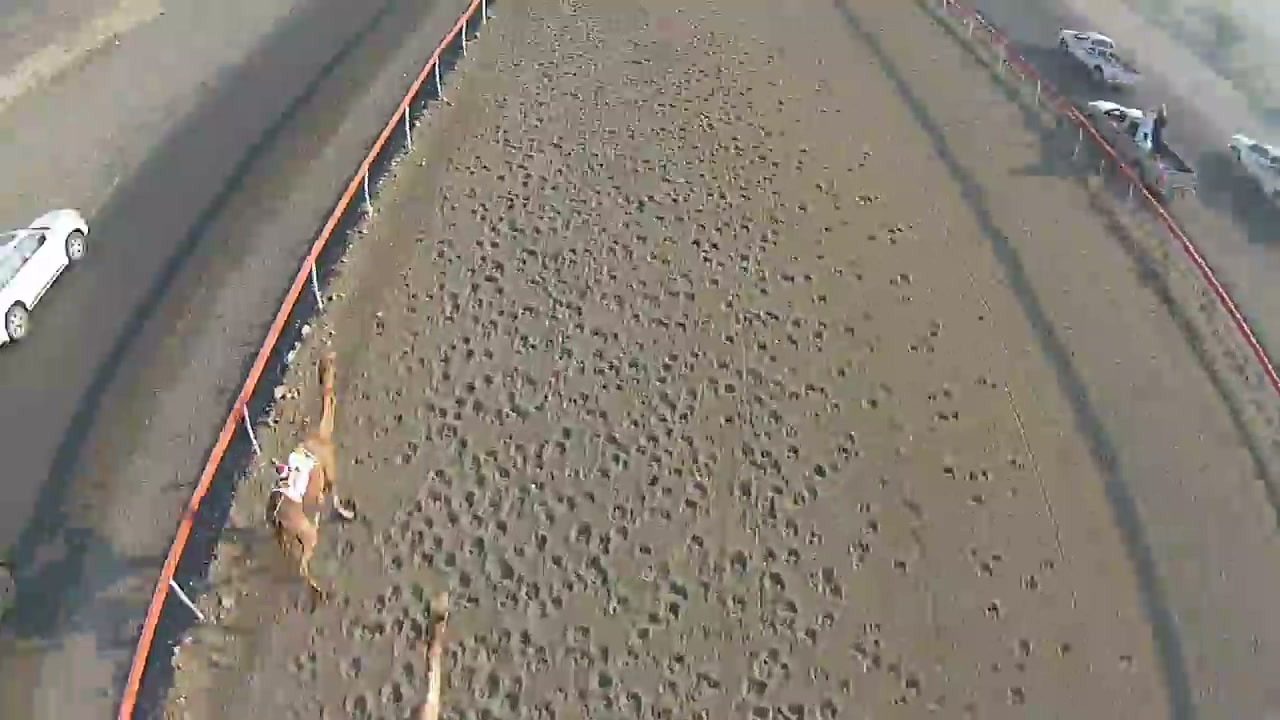animal_foot_print: (295, 49, 862, 708), (740, 90, 1026, 695)
